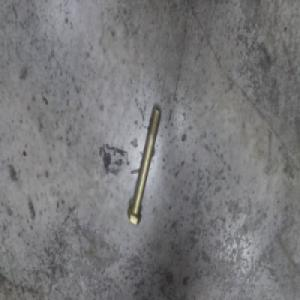Bolt: (127, 107, 163, 224)
